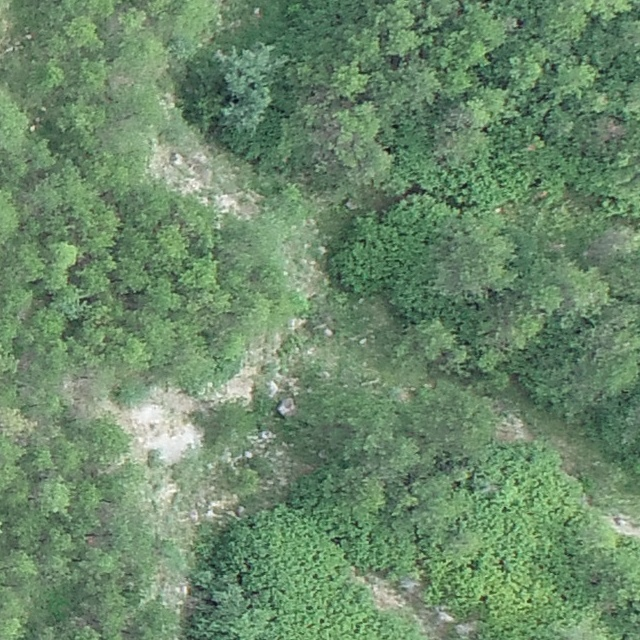unhealthy: (596, 115, 627, 141)
